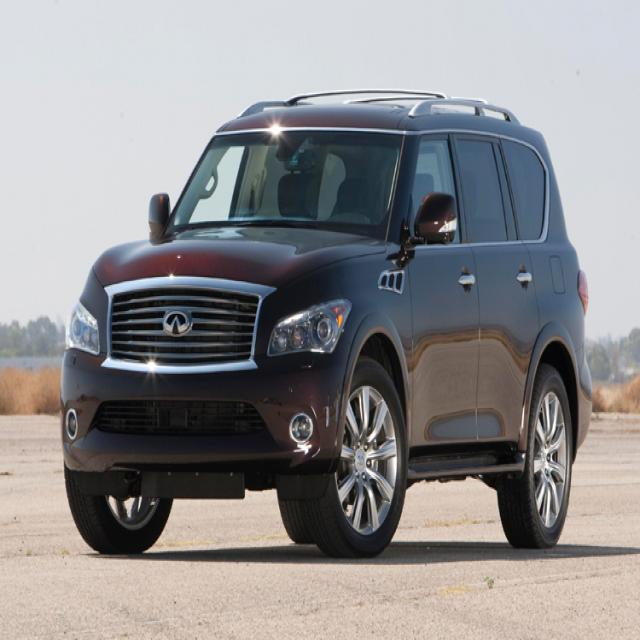Car: (46, 68, 613, 573)
